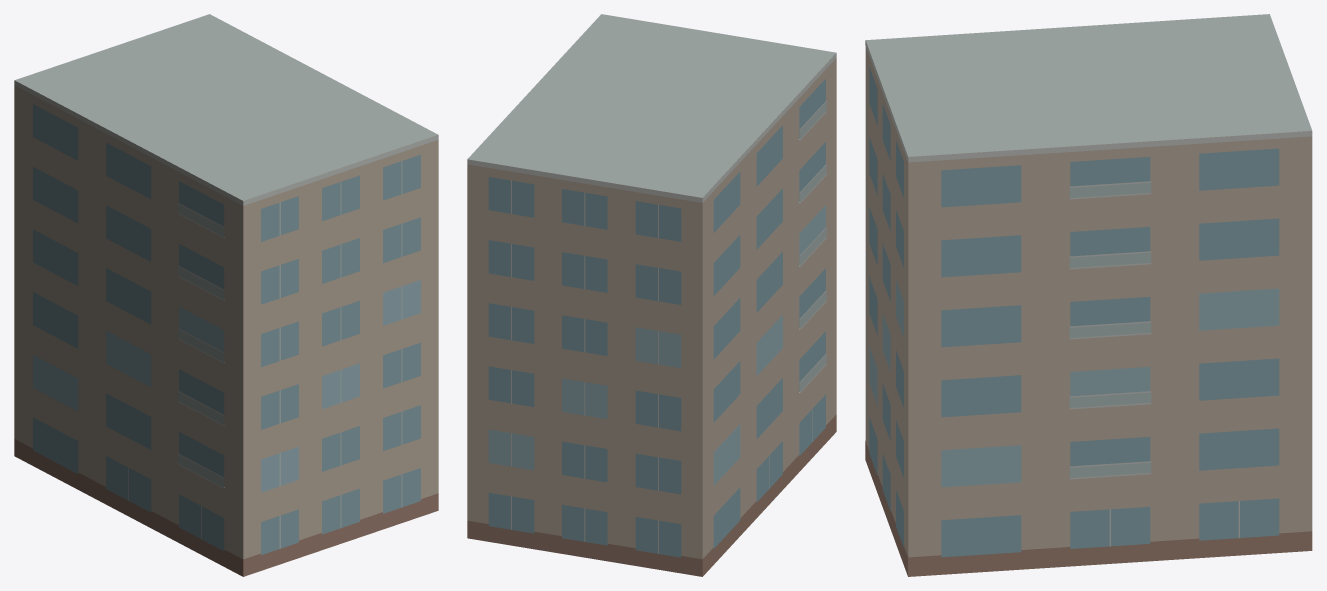
The model's file is survey-upis-32631311.glb.
3 renders of one model, left to right at view 1: azimuth 30°, elevation 25°; view 2: azimuth 150°, elevation 25°; view 3: azimuth 270°, elevation 25°, orthographic. The views are drawn at different scales.
Parts seen in each view (by area): view 1: survey-upis-32631311.tmp; view 2: survey-upis-32631311.tmp; view 3: survey-upis-32631311.tmp.
Boxes of the visible parts, x1,y1,x2,y2 form: survey-upis-32631311.tmp: (14,14,438,576); survey-upis-32631311.tmp: (467,14,836,576); survey-upis-32631311.tmp: (865,14,1312,576).
Bounding box in the file's own units: 13.52 × 18.5 × 17.85.
